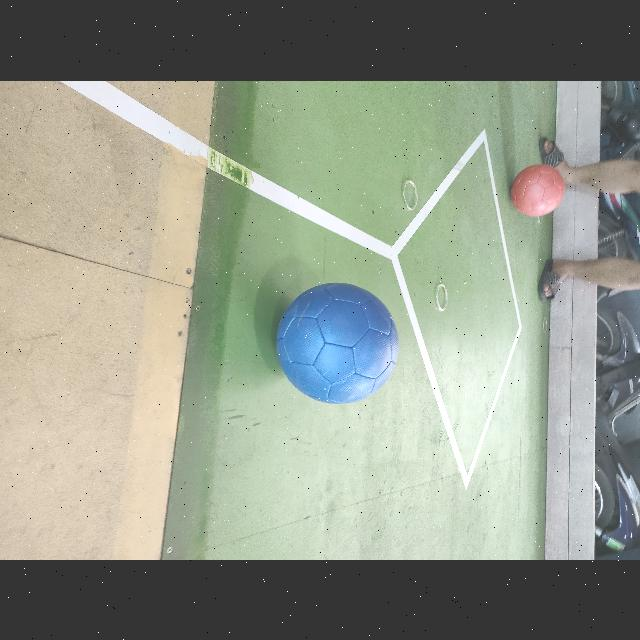B: (276, 282, 398, 403)
R: (511, 164, 565, 216)
